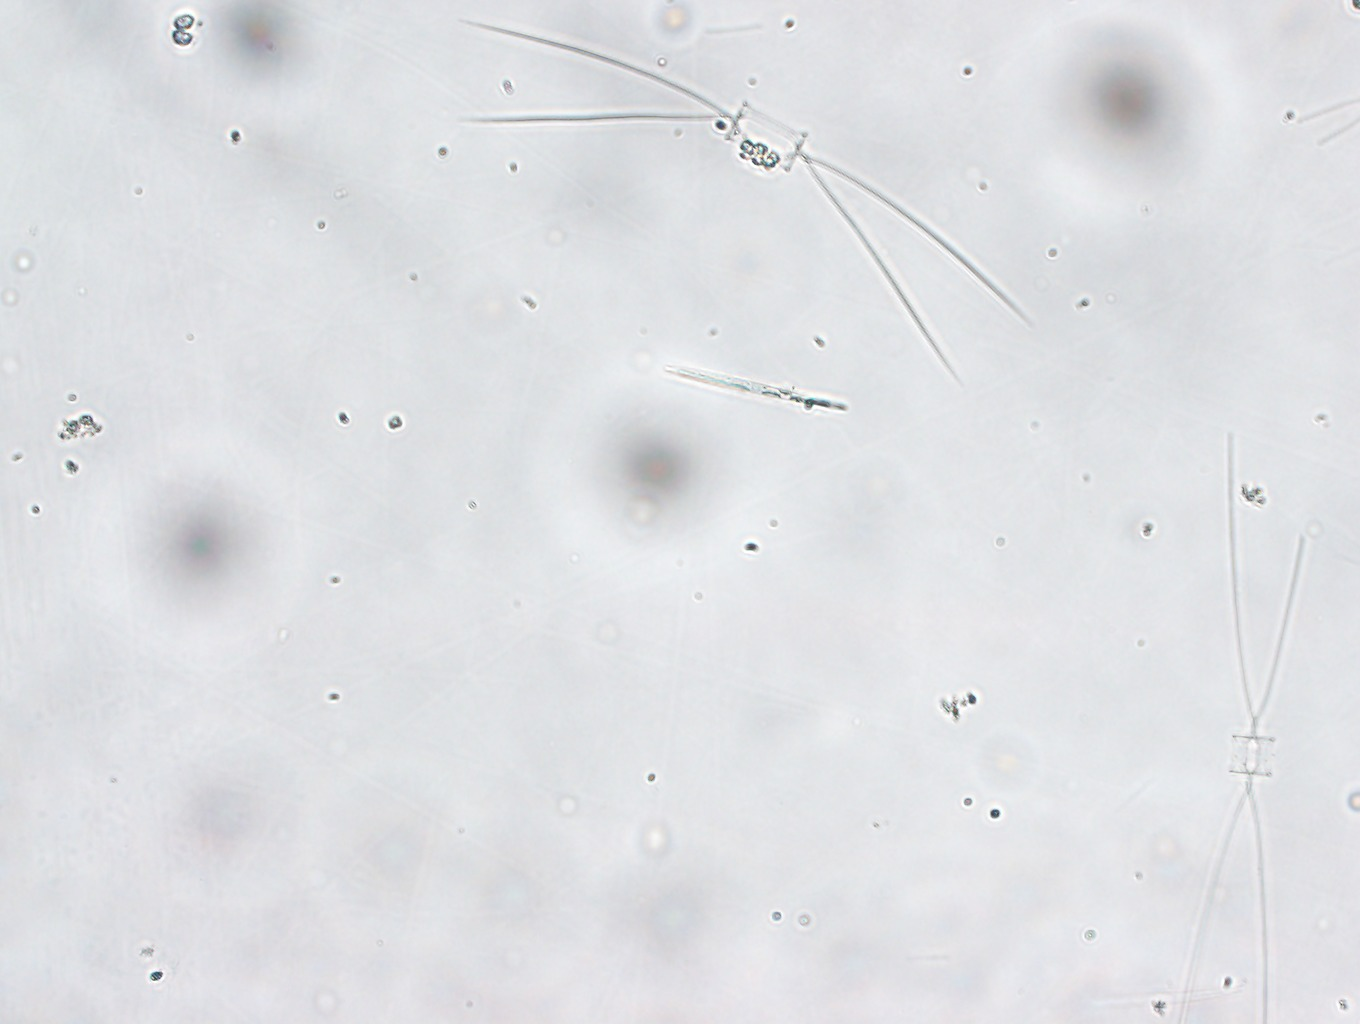chaetoceros: (445, 8, 1033, 383), (1170, 410, 1322, 1024)
